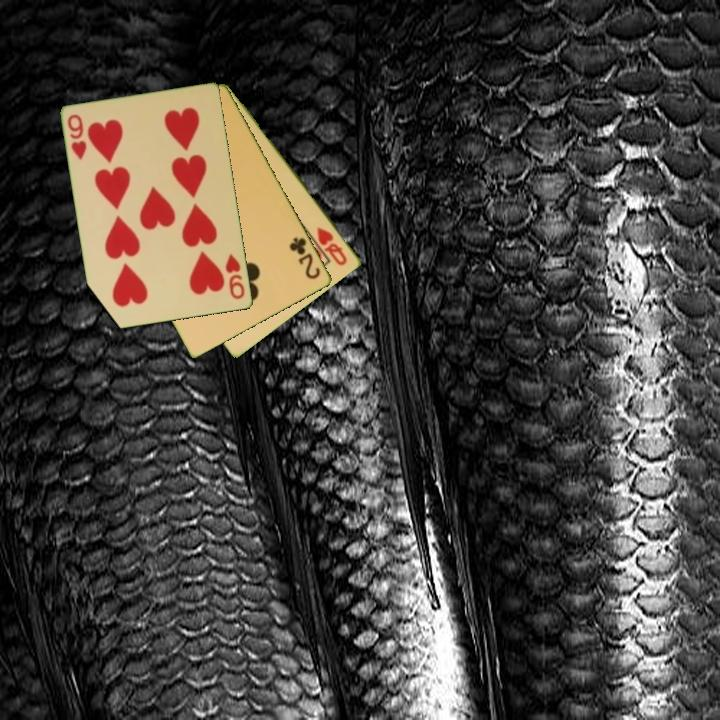2c: (286, 234, 323, 282)
9h: (64, 111, 90, 163), (222, 251, 248, 302)
Qh: (314, 224, 350, 269)
